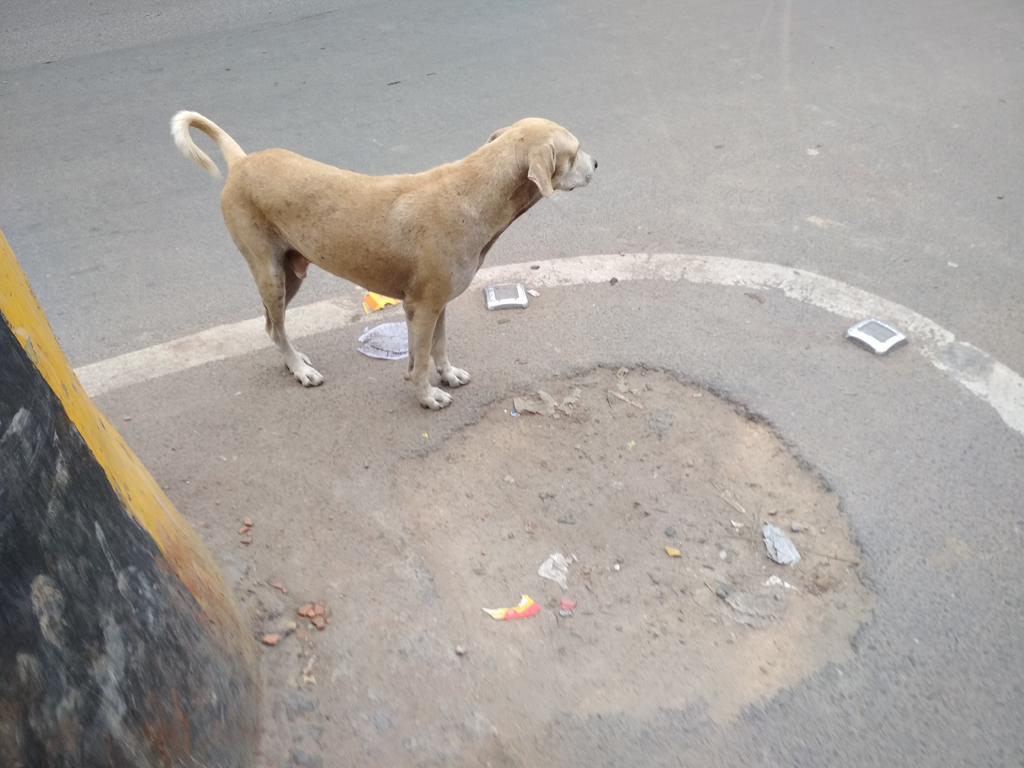dog: (170, 111, 601, 411)
